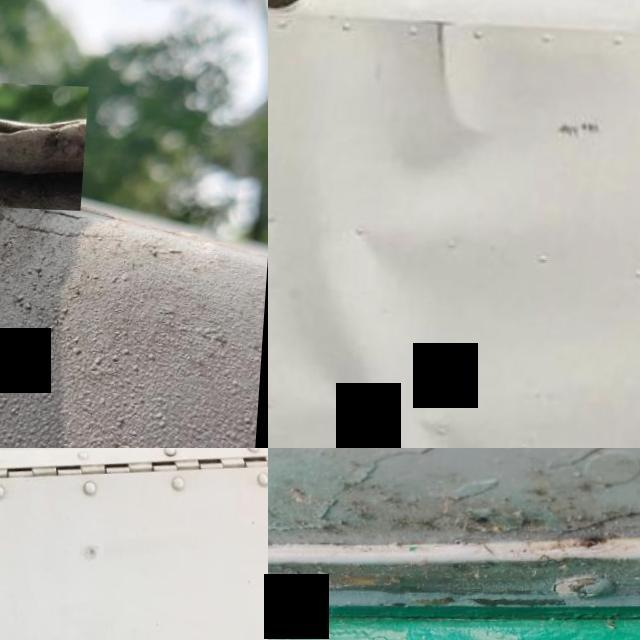Crack: (0, 74, 91, 206), (81, 530, 107, 566)
Dent: (286, 258, 418, 448), (388, 20, 514, 171)
